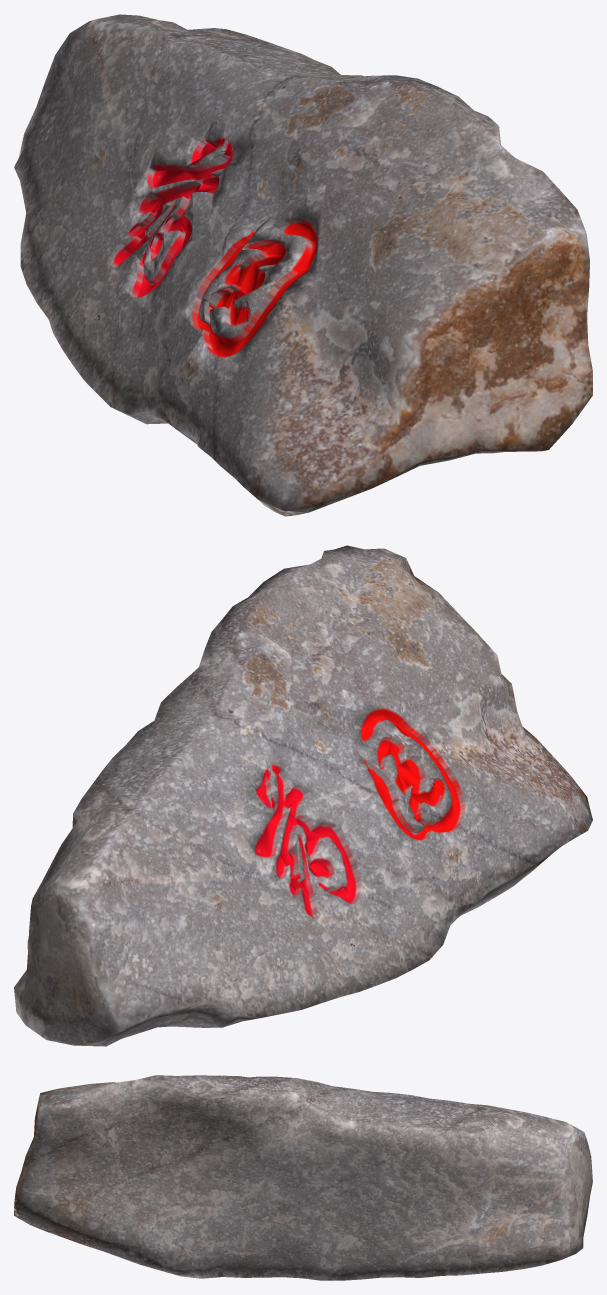
The picture shows the model from 3 angles, top to bottom: view 1: azimuth 30°, elevation 25°; view 2: azimuth 150°, elevation 25°; view 3: azimuth 270°, elevation 25°; orthographic projection. The views are drawn at different scales.
Parts seen in each view (by area): view 1: kamien_low; view 2: kamien_low; view 3: kamien_low.
Part boxes in pixels (<box>): kamien_low: <box>14,14,592,516</box>; kamien_low: <box>14,545,592,1046</box>; kamien_low: <box>14,1075,592,1280</box>.
Size of the model in its own units: 53.19 by 53.59 by 135.
